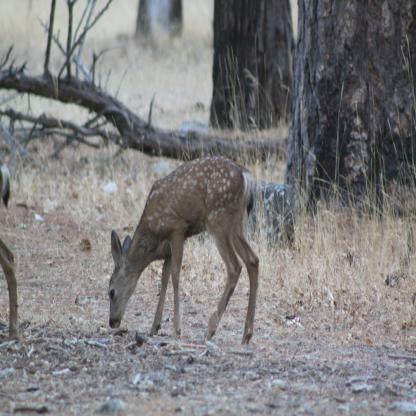Deer: (107, 155, 258, 349)
